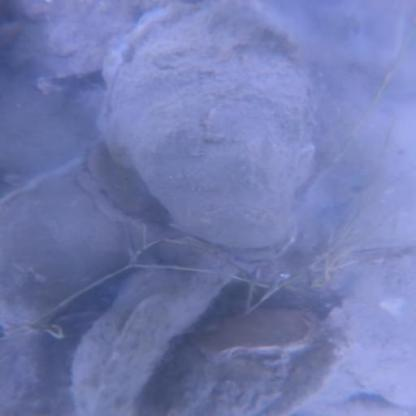Oyster- Indeterminate: (101, 0, 325, 264)
Oyster-Closed: (72, 239, 243, 416), (0, 169, 155, 334), (261, 331, 357, 416), (190, 308, 317, 362)
